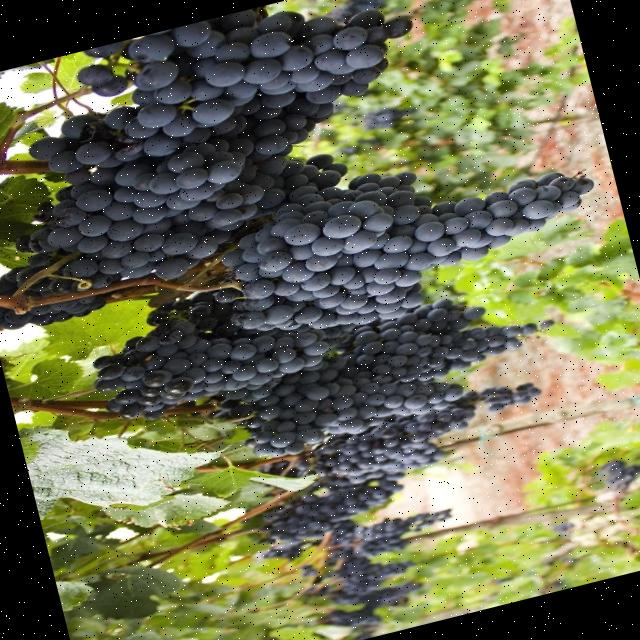grape: (0, 7, 410, 296), (215, 172, 591, 330), (215, 299, 550, 456), (92, 291, 353, 418), (238, 206, 445, 329), (261, 477, 403, 541), (358, 507, 451, 540)
